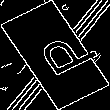P_SW: (18, 26, 92, 84)
